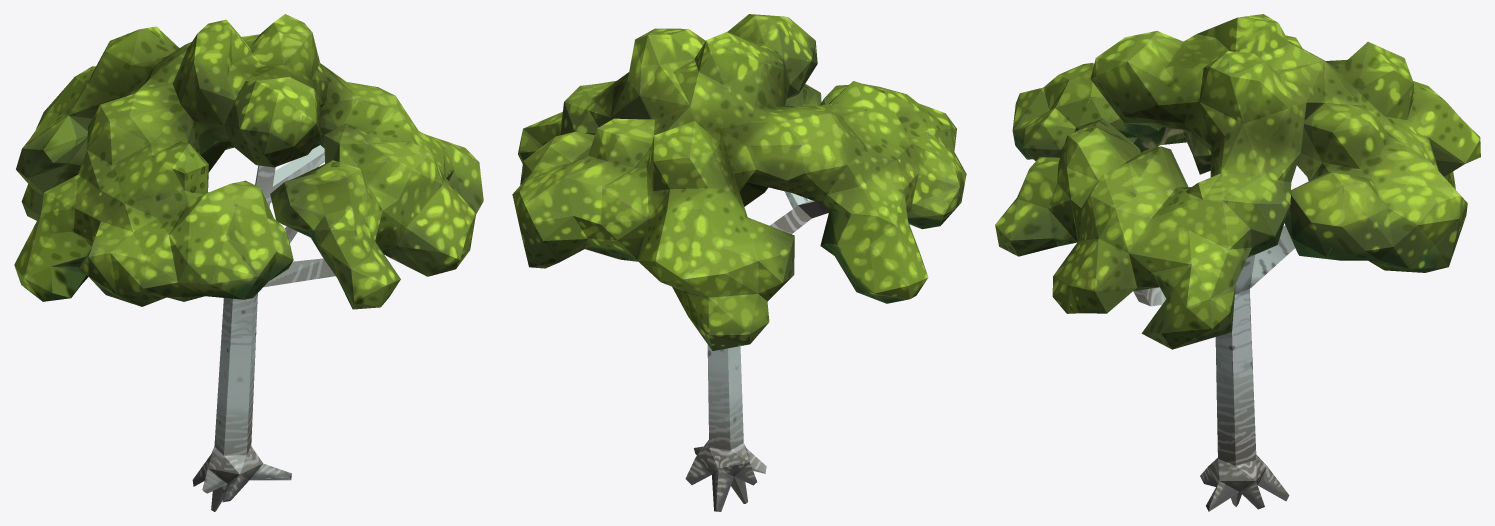
The model's file is arbolLaurel.obj.
3 renders of one model, left to right at view 1: azimuth 30°, elevation 25°; view 2: azimuth 150°, elevation 25°; view 3: azimuth 270°, elevation 25°, orthographic. The views are drawn at different scales.
Visible parts, largest first — view 1: Icosphere_000; view 2: Icosphere_000; view 3: Icosphere_000.
Part boxes in pixels (box(x1,y1,x2,y2)): Icosphere_000: box(14, 14, 483, 511); Icosphere_000: box(512, 14, 966, 511); Icosphere_000: box(995, 14, 1480, 511).
Bounding box in the file's own units: 87.6 × 92.6 × 81.85.
